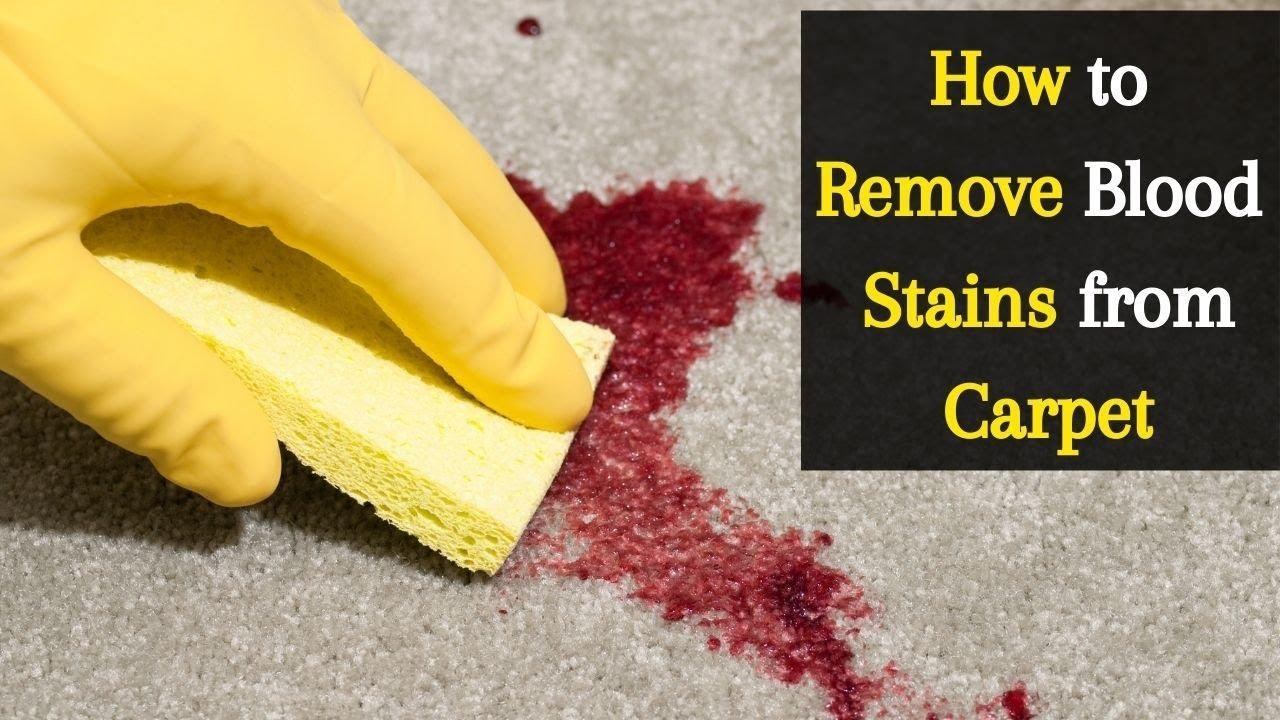Fire: (506, 173, 889, 719), (977, 679, 1037, 718), (773, 270, 801, 303)
